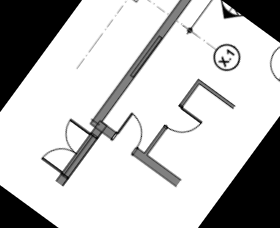door: (109, 110, 154, 158), (163, 101, 207, 145)
double door: (37, 114, 101, 182)
wall: (89, 0, 202, 129), (53, 120, 108, 190), (131, 147, 182, 188), (195, 78, 237, 110), (143, 124, 169, 156), (176, 78, 201, 108)
window: (122, 29, 170, 85)
